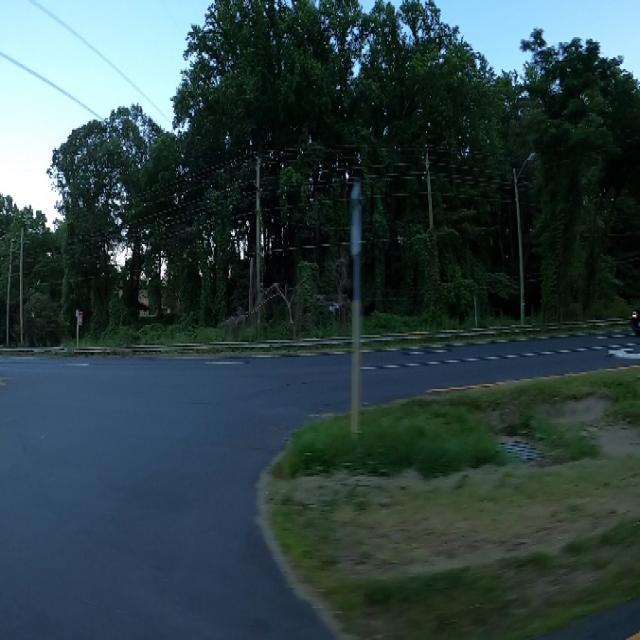cars: (631, 292, 640, 348)
